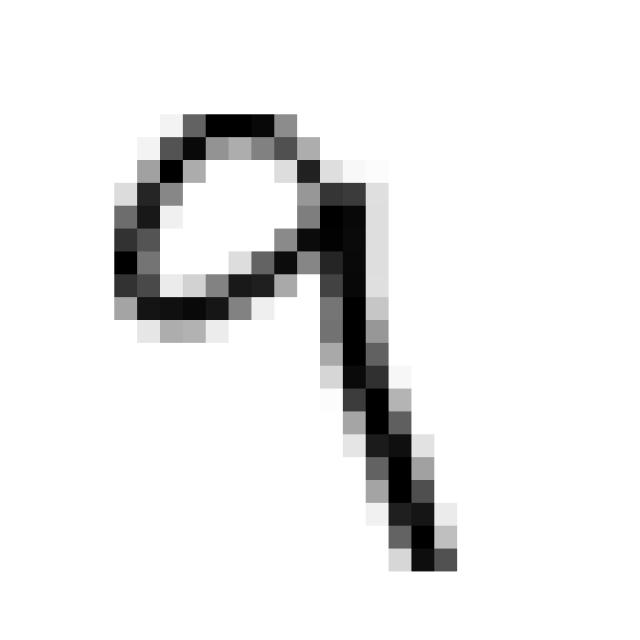9 -nine-: (87, 82, 473, 595)
